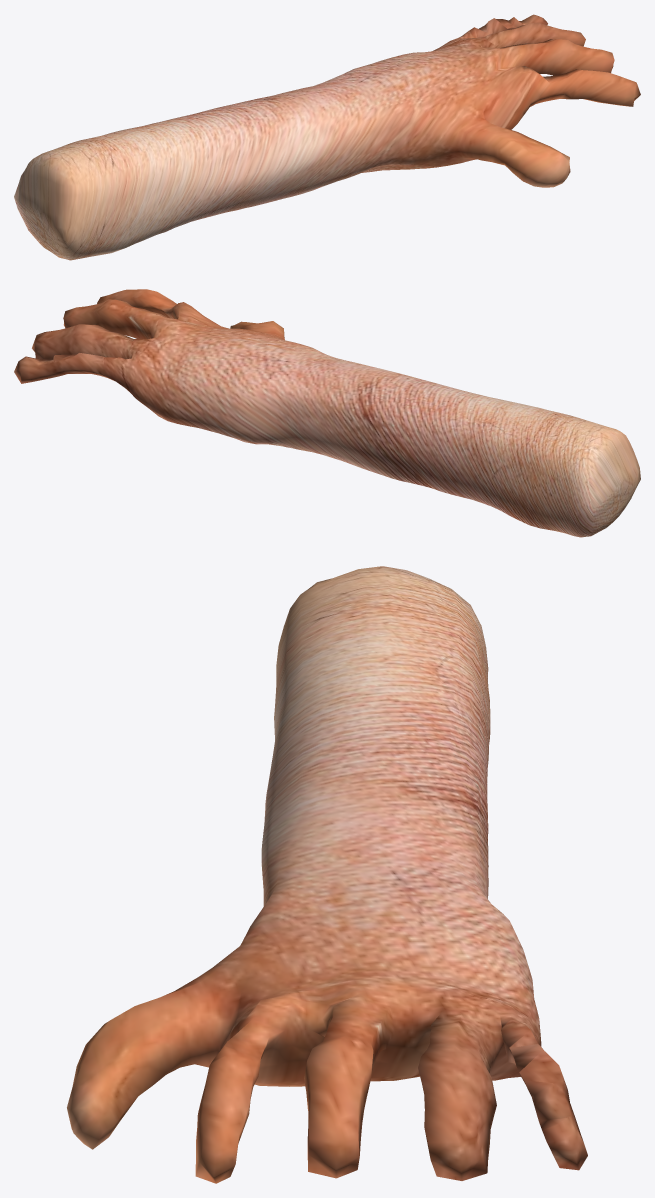
Rendered from geo_Vhånd_åben.glb.
3 views of the same model, one above another, from view 1: azimuth 30°, elevation 25°; view 2: azimuth 150°, elevation 25°; view 3: azimuth 270°, elevation 25° (orthographic). The views are drawn at different scales.
Parts seen in each view (by area): view 1: geo_Vhånd_åben; view 2: geo_Vhånd_åben; view 3: geo_Vhånd_åben.
Boxes of the visible parts, bbox=[...] form: geo_Vhånd_åben: bbox=[14, 14, 640, 260]; geo_Vhånd_åben: bbox=[14, 289, 640, 537]; geo_Vhånd_åben: bbox=[67, 566, 587, 1183].
Size of the model in its own units: 3.99 by 0.6926 by 1.59.
1 material, 1 textured.
